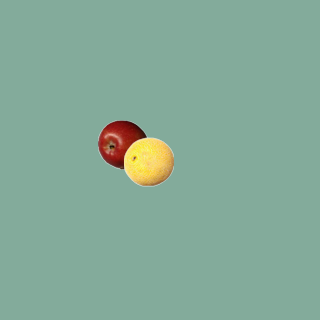Apple Braeburn: (97, 119, 147, 169)
Cantaloupe 1: (123, 136, 173, 186)
